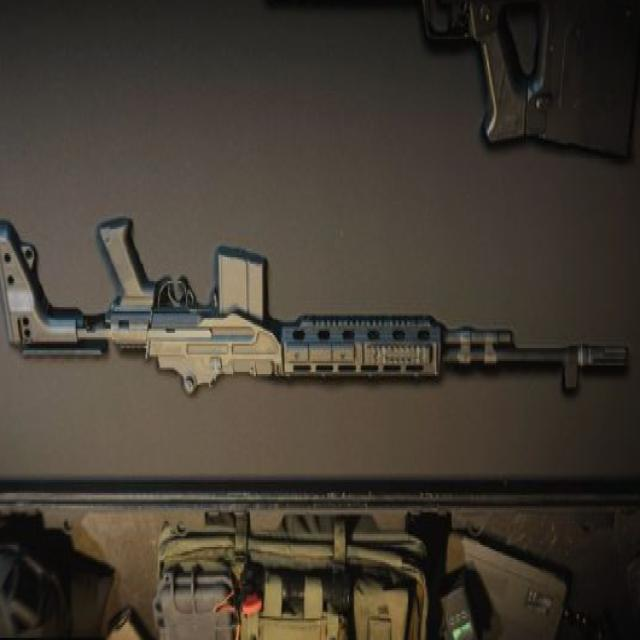Gun: (0, 208, 620, 416)
